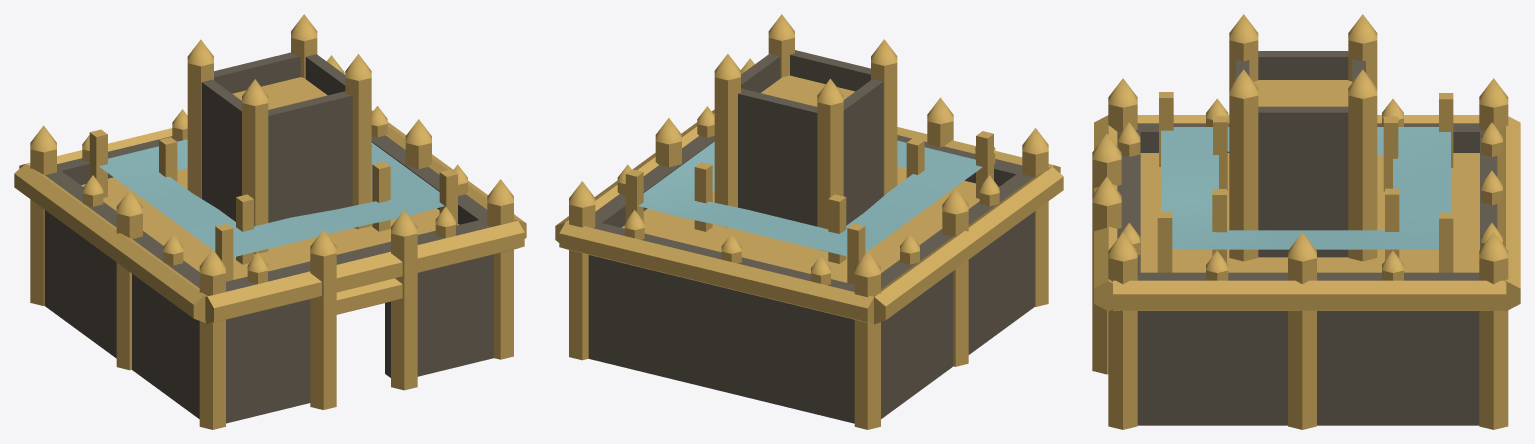
File: Barracks.fbx
3 views of the same model, side by side, from view 1: azimuth 30°, elevation 25°; view 2: azimuth 150°, elevation 25°; view 3: azimuth 270°, elevation 25° (orthographic). The views are drawn at different scales.
Parts seen in each view (by area): view 1: pCylinder28; view 2: pCylinder28; view 3: pCylinder28.
Boxes of the visible parts, bbox=[...] form: pCylinder28: bbox=[14, 14, 526, 429]; pCylinder28: bbox=[555, 14, 1063, 429]; pCylinder28: bbox=[1092, 14, 1520, 429].
Size of the model in its own units: 12.97 by 10.43 by 13.18.
